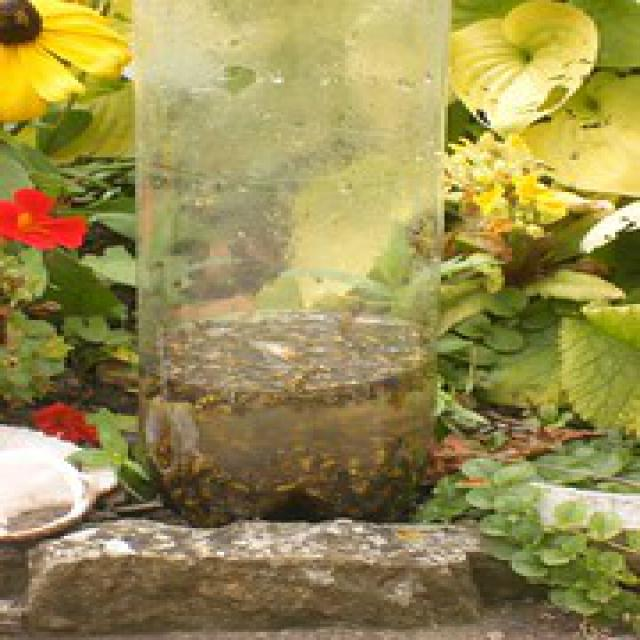Guepe: (279, 360, 334, 413), (186, 383, 246, 418)
